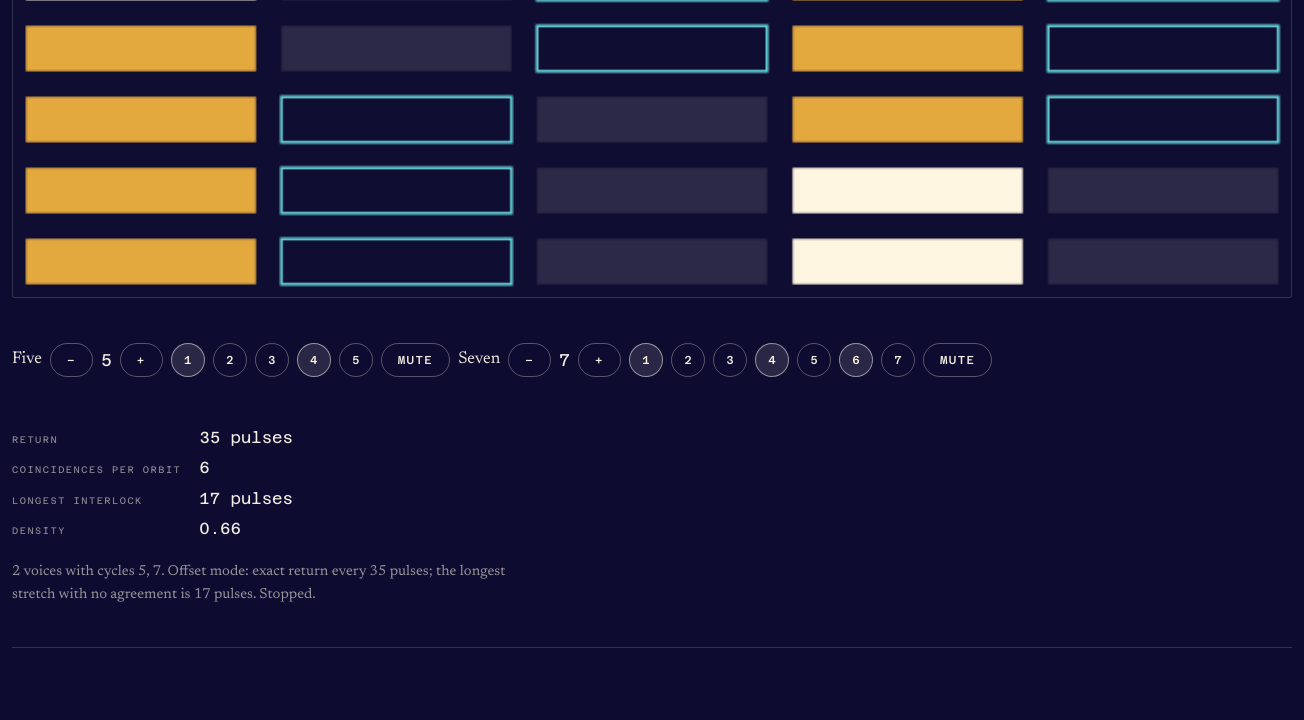
Test: the rack is a research instrument › editing a voice clears the preset label
(page scrolled)
Step 1. Click the button named "Five: longer cycle" → (141, 360), box x1=120 y1=344 x2=163 y2=378
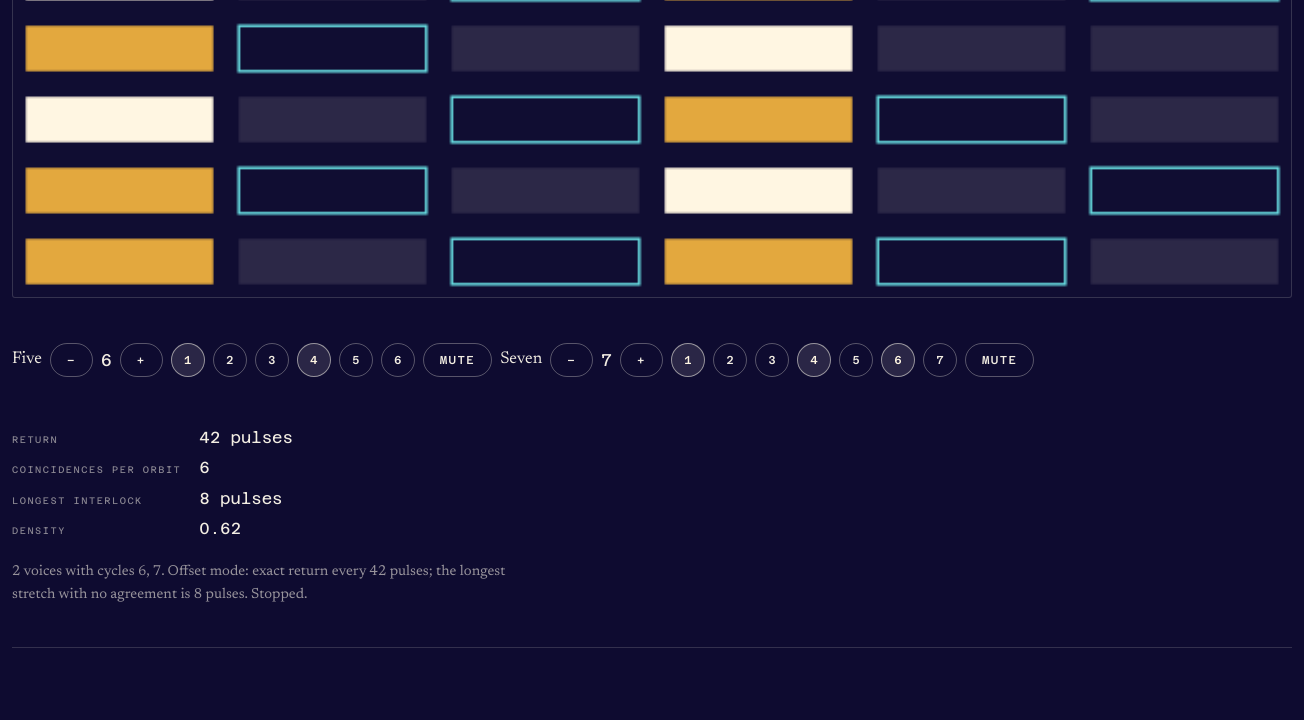
Expected: the text "cycles 6, 7" is shown, x1=12 y1=564 x2=505 y2=602
